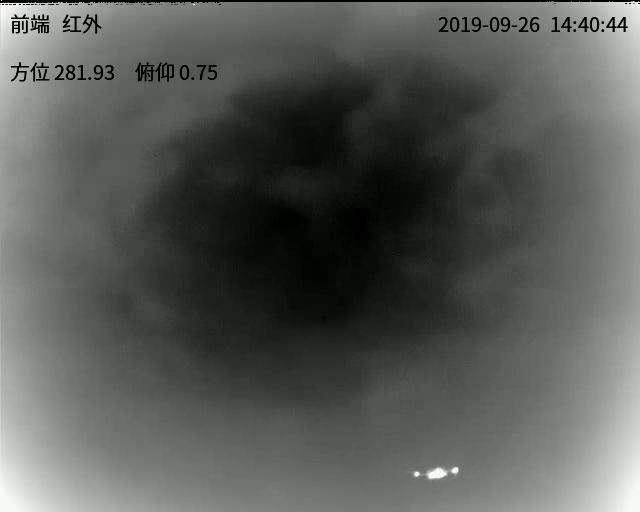DRONE: (412, 465, 462, 481)
